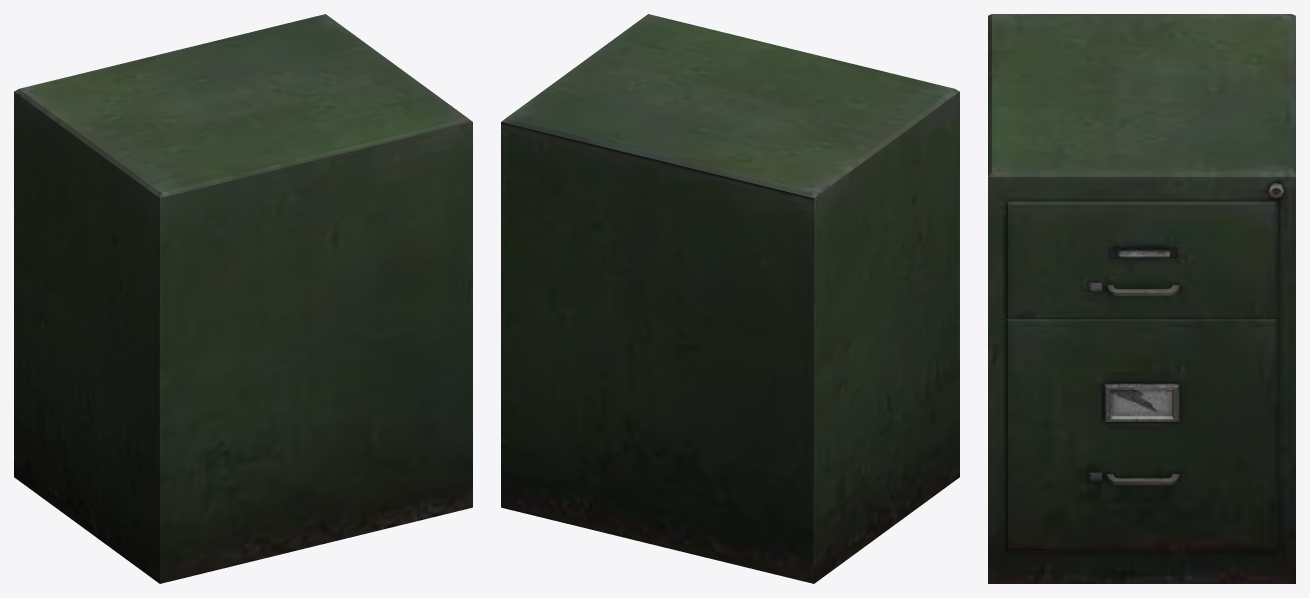
File: controlroom_filecabinet001a.glb
The picture shows the model from 3 angles, left to right: view 1: azimuth 30°, elevation 25°; view 2: azimuth 150°, elevation 25°; view 3: azimuth 270°, elevation 25°; orthographic projection. The views are drawn at different scales.
Parts seen in each view (by area): view 1: 0_controlroom_filecabinets001; view 2: 0_controlroom_filecabinets001; view 3: 0_controlroom_filecabinets001.
Part boxes in pixels (box(x1,y1,x2,y2)): 0_controlroom_filecabinets001: box(14, 14, 472, 583); 0_controlroom_filecabinets001: box(501, 14, 959, 583); 0_controlroom_filecabinets001: box(988, 14, 1295, 583).
Bounding box in the file's own units: 0.609 × 0.6875 × 0.4674.
Materials: 1 (1 with a texture image).
